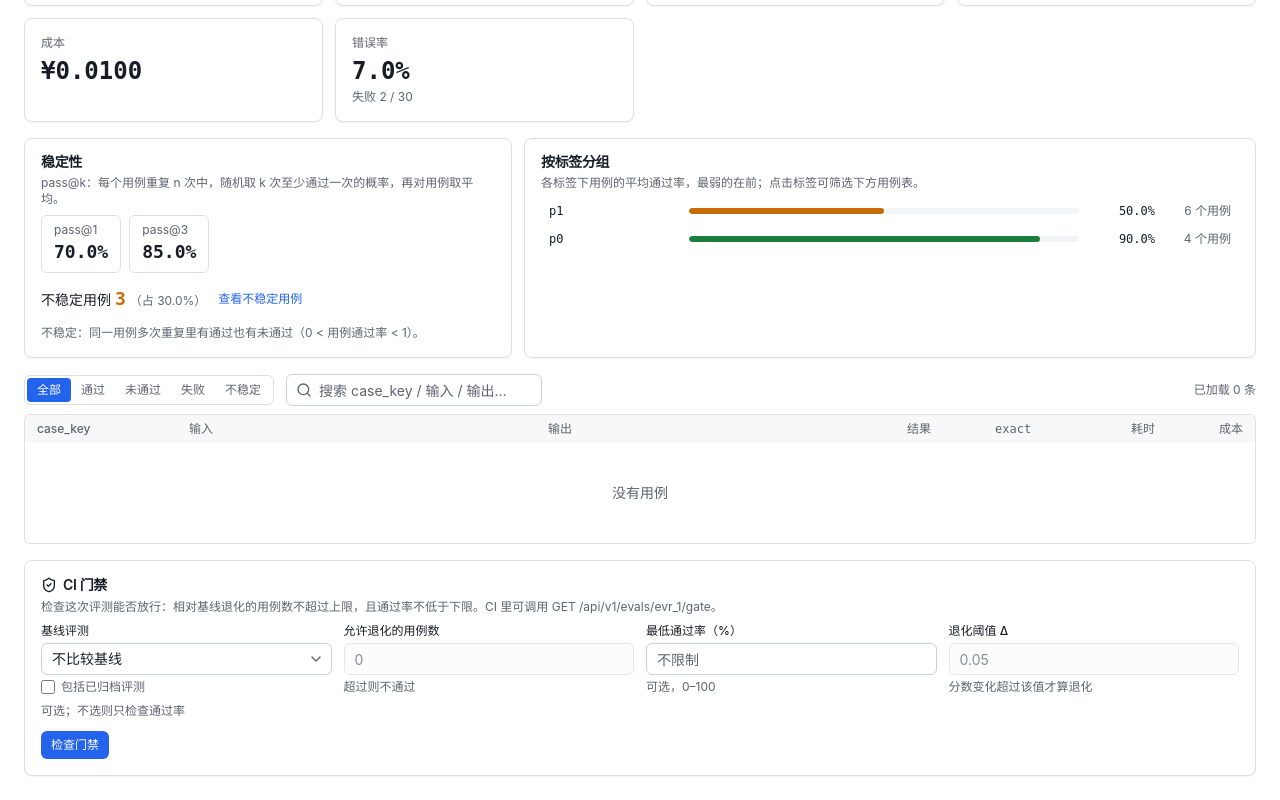
Test: EvalReportPage：统计与门禁 › 页面上有 CI 门禁面板，可以直接检查
This screenshot has width=1280, height=800.
(page scrolled)
Step 1. Click the button with test id "run-gate" → {"x": 75, "y": 745}, box [41,731,109,759]
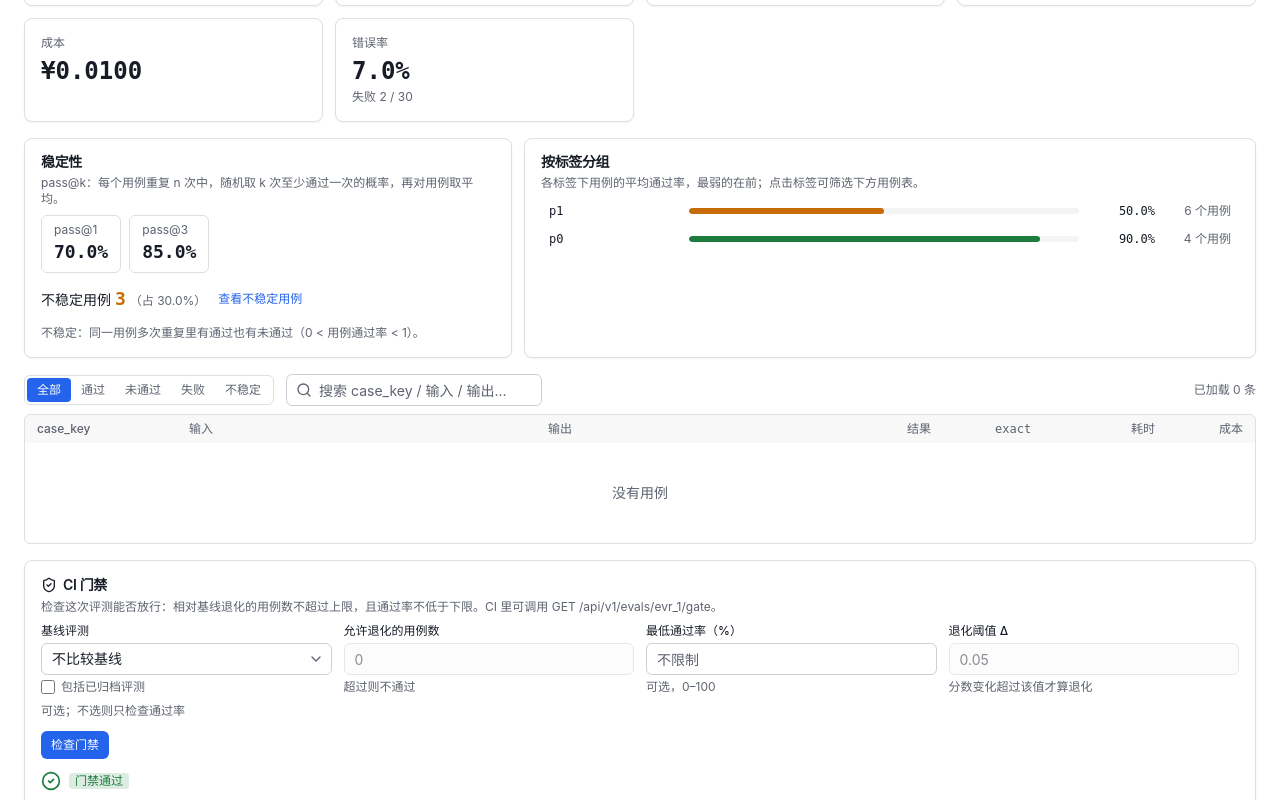
Expected: the text with test id "gate-verdict" reads "门禁通过", [75,773,123,788]
